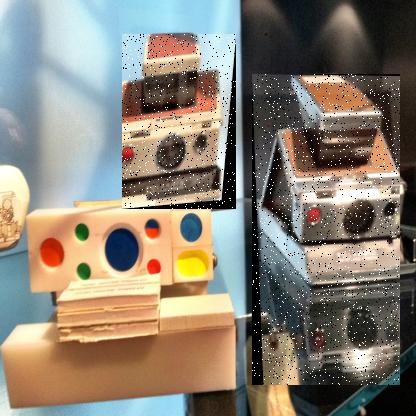Camera: (253, 75, 402, 387), (123, 35, 238, 211)
